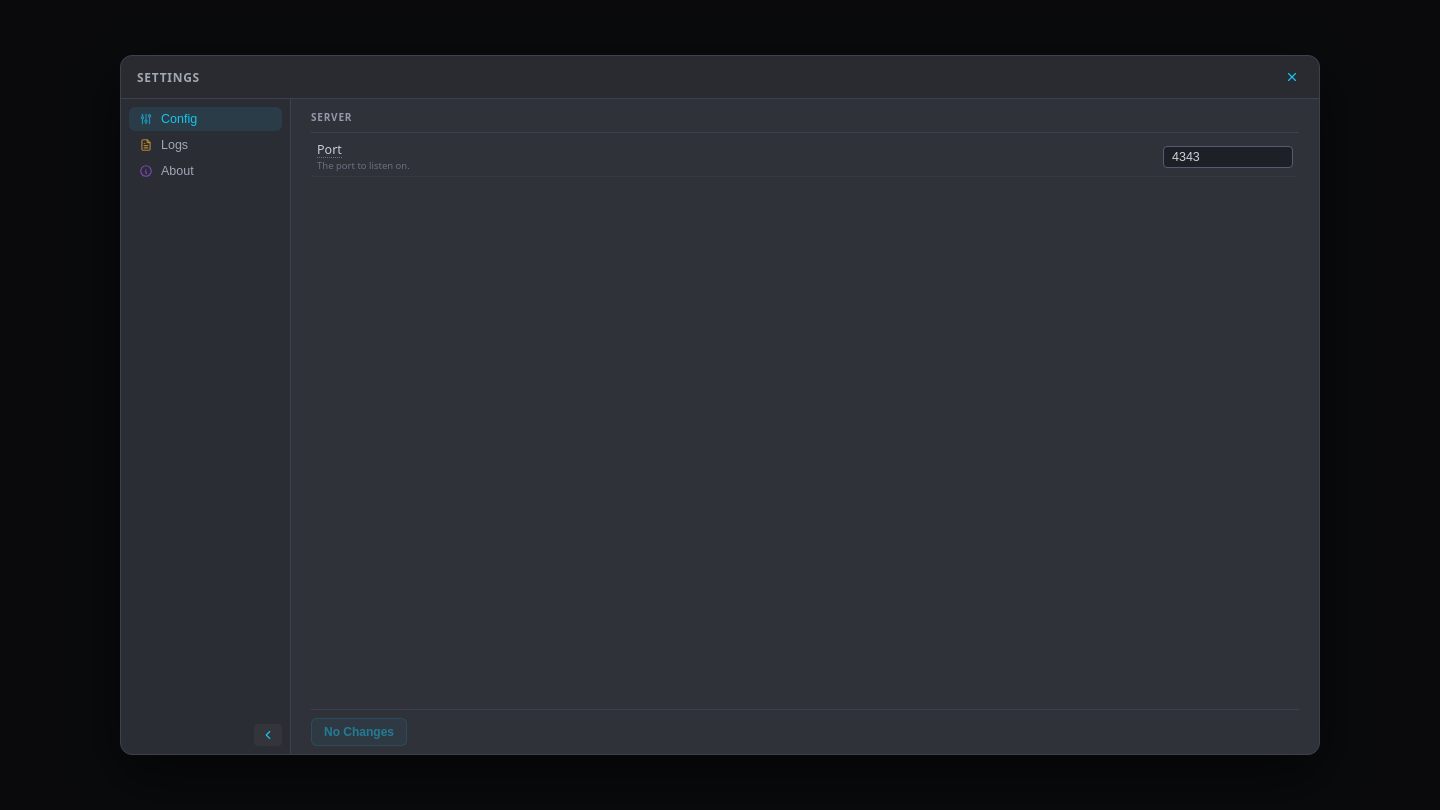
Test: ConfigTab › discards pending changes after a confirm click
The width and height of the screenshot is (1440, 810).
Expected: the text "Port" is shown, [317,142,342,158]
Replace the text in the number field with "9000": (1228, 157) [1163,146,1293,168]
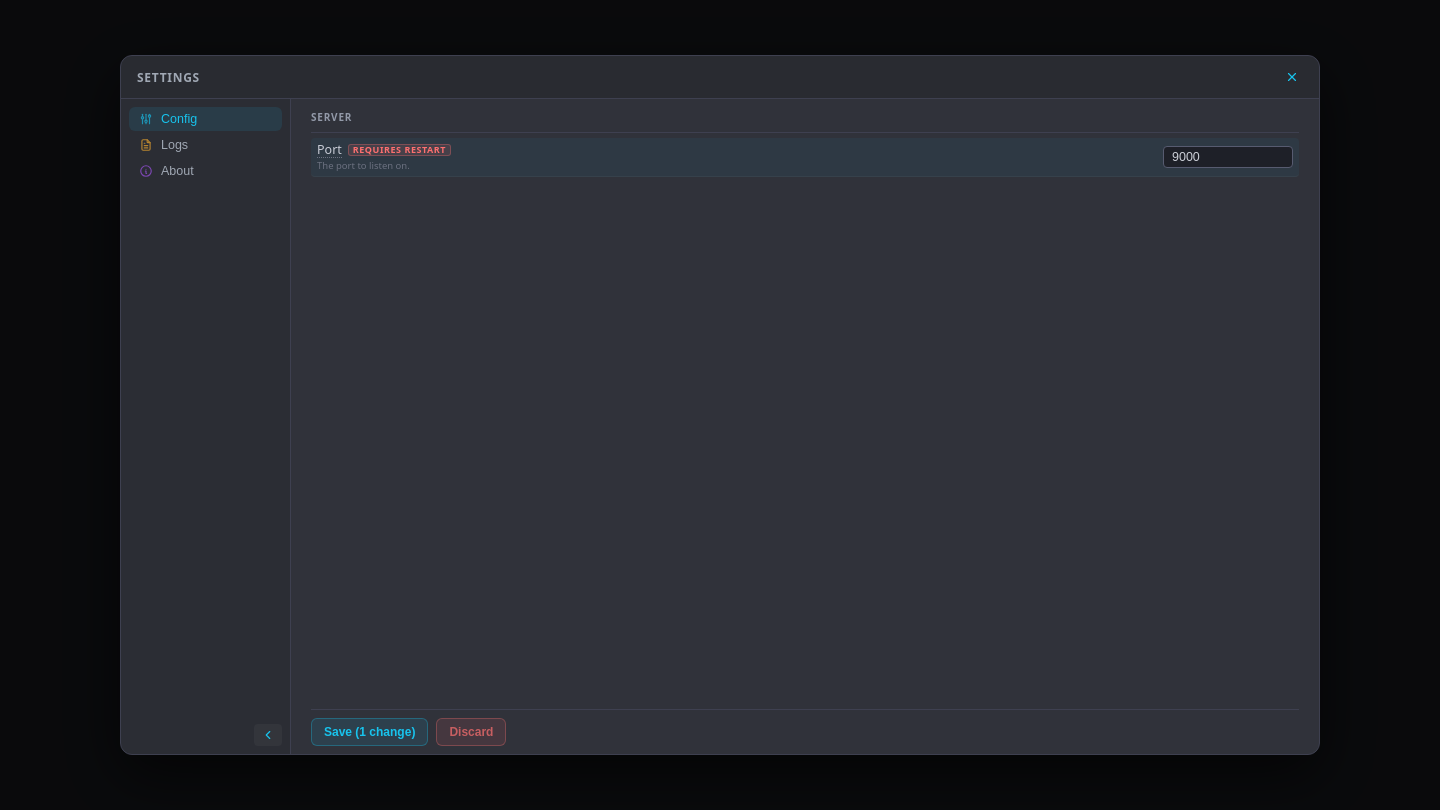
Click the button "Discard": (471, 732) [436,718,506,746]
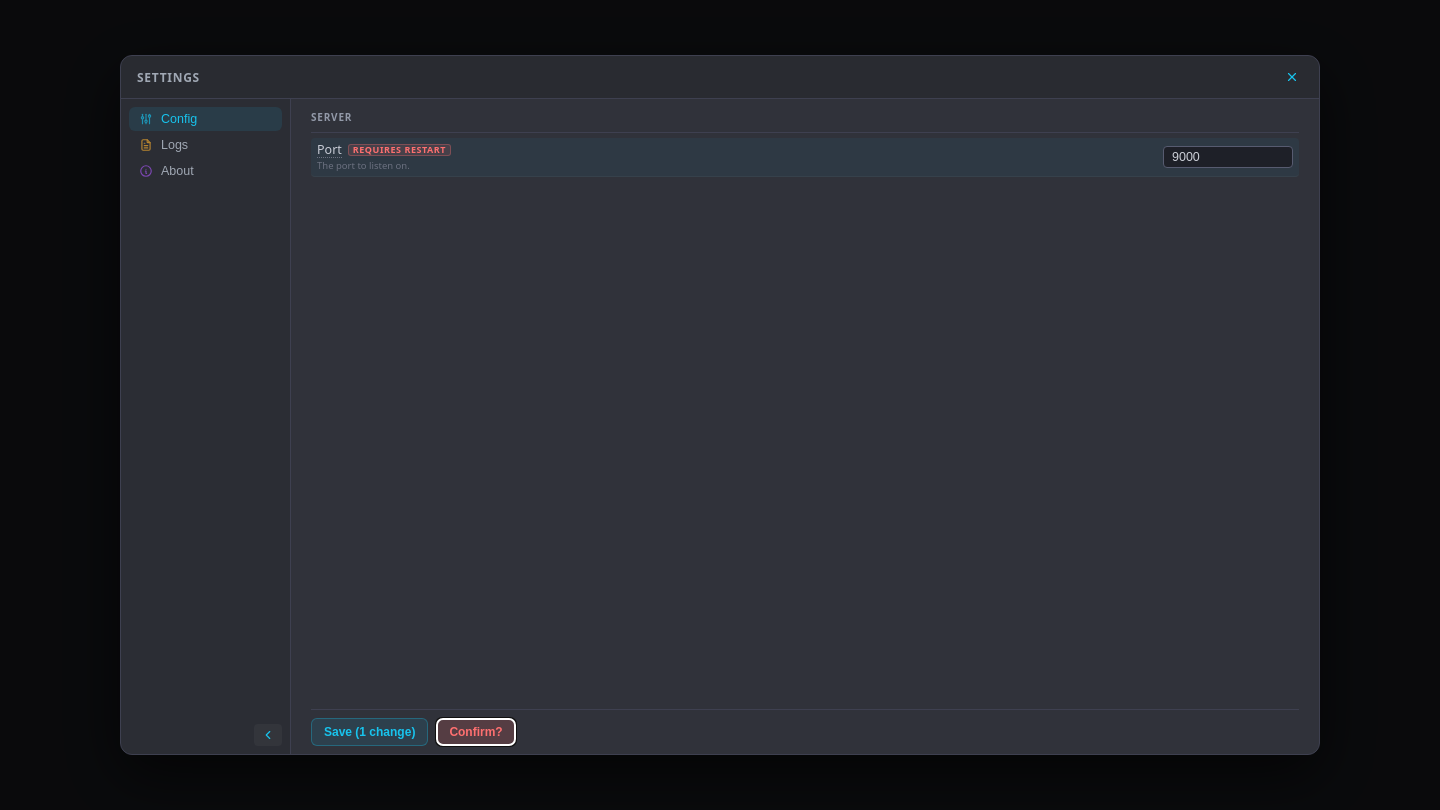
Click the button "Confirm?": (476, 732) [436,718,516,746]
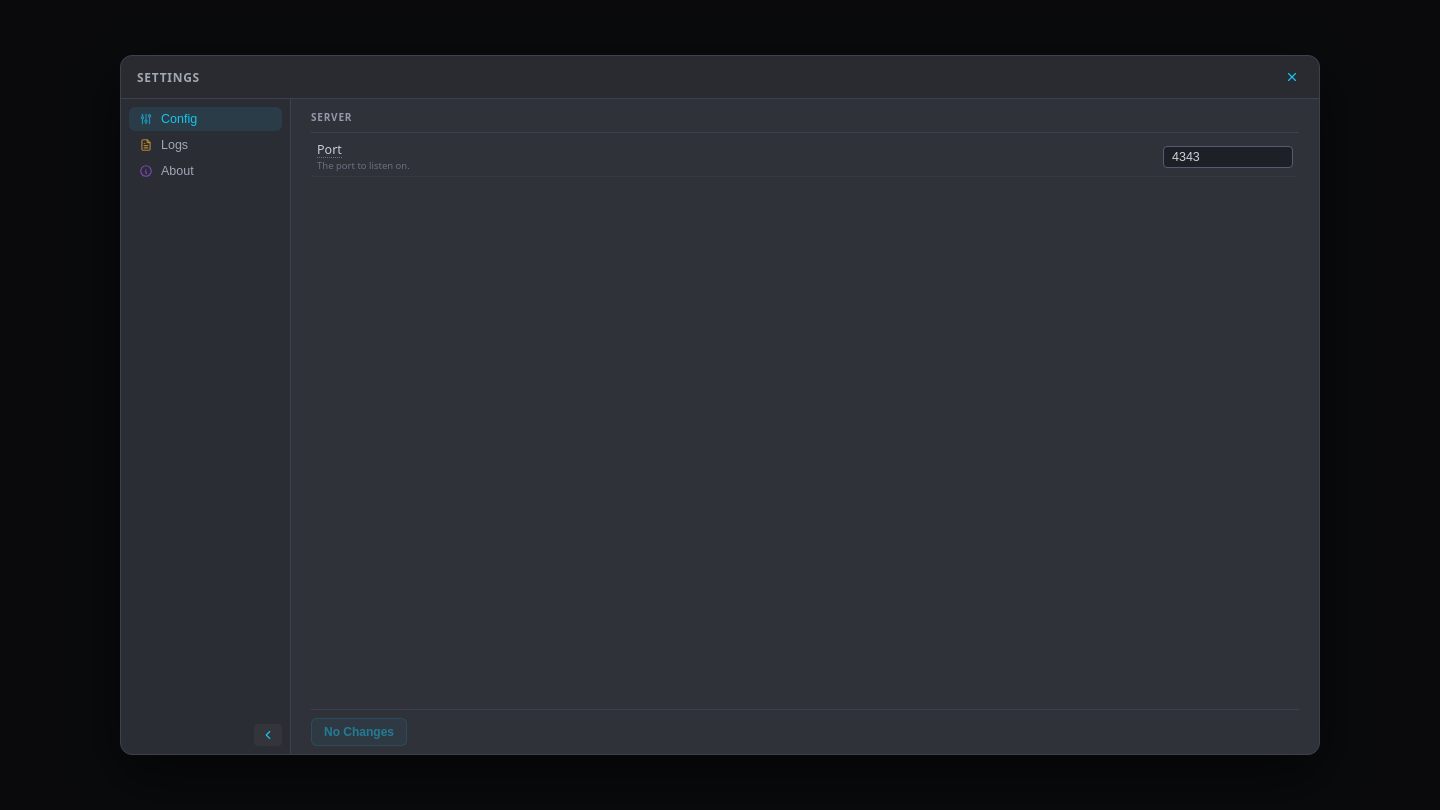
Result: the button "No Changes" is disabled at [311,718,407,746]
Result: the number field holds "4343" at [1163,146,1293,168]
